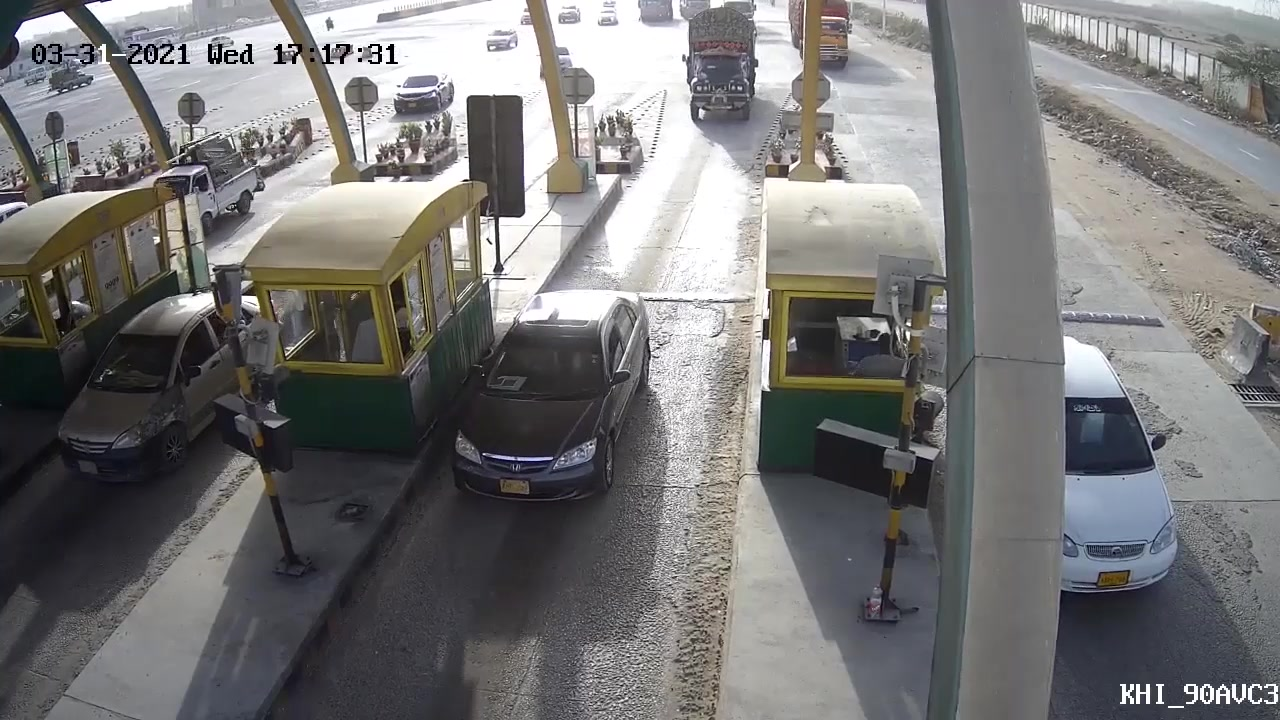F1: (438, 281, 655, 501)
